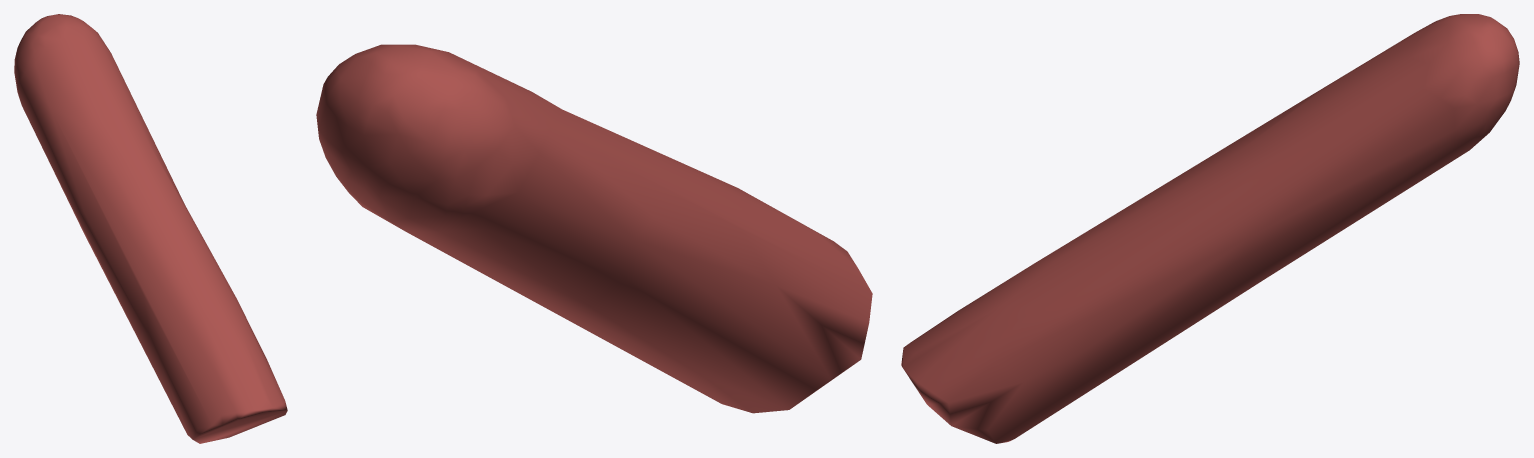
File: FMA14749.glb
3 renders of one model, left to right at view 1: azimuth 30°, elevation 25°; view 2: azimuth 150°, elevation 25°; view 3: azimuth 270°, elevation 25°, orthographic. The views are drawn at different scales.
Visible parts, largest first — view 1: FMA14749; view 2: FMA14749; view 3: FMA14749.
Boxes of the visible parts, x1=… form: FMA14749: x1=14, y1=14, x2=287, y2=443; FMA14749: x1=316, y1=44, x2=872, y2=413; FMA14749: x1=901, y1=14, x2=1519, y2=443.
Size of the model in its own units: 0.00902 by 0.0275 by 0.0369.
